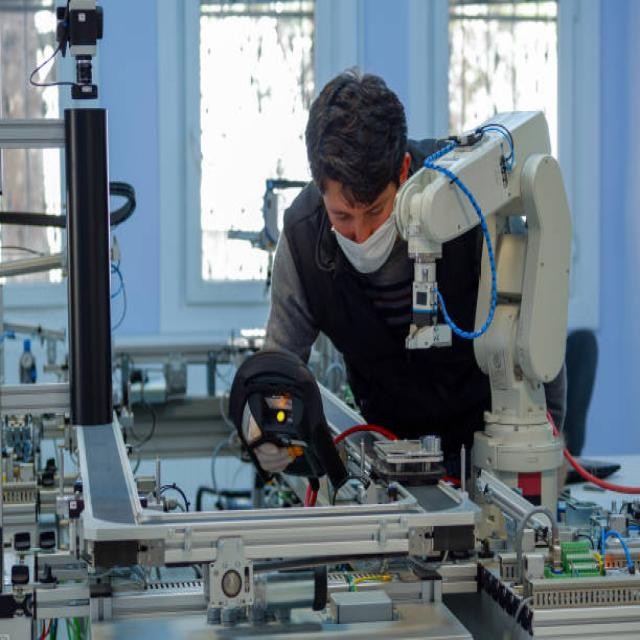Robotic-arm: (389, 102, 576, 508)
